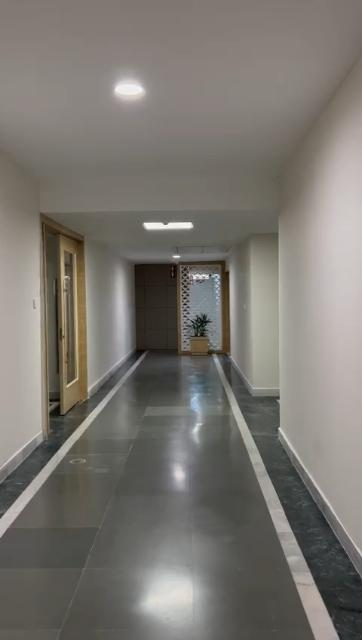door: (36, 210, 88, 406)
floor: (0, 349, 359, 640)
object: (188, 314, 214, 358)
wall: (273, 56, 362, 554), (228, 238, 280, 390), (91, 243, 136, 386)
